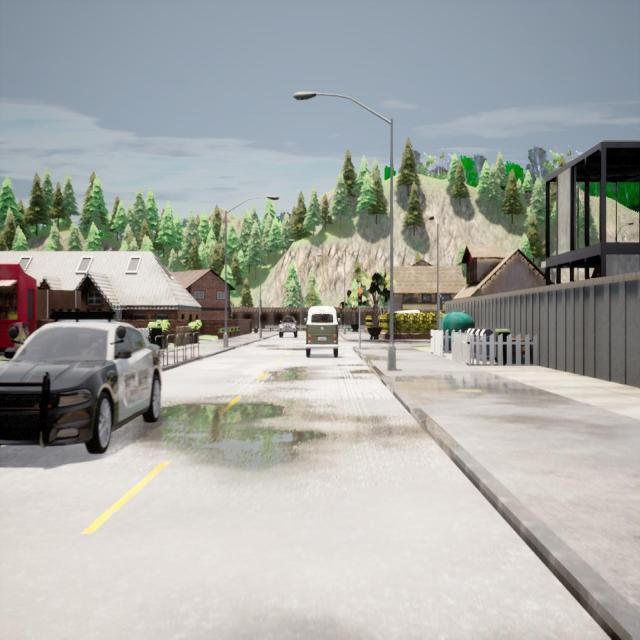Vehicle: (0, 319, 161, 453), (304, 306, 341, 358), (278, 315, 298, 338)
traffic_light: (358, 288, 363, 306), (440, 297, 444, 310), (340, 303, 342, 314)
